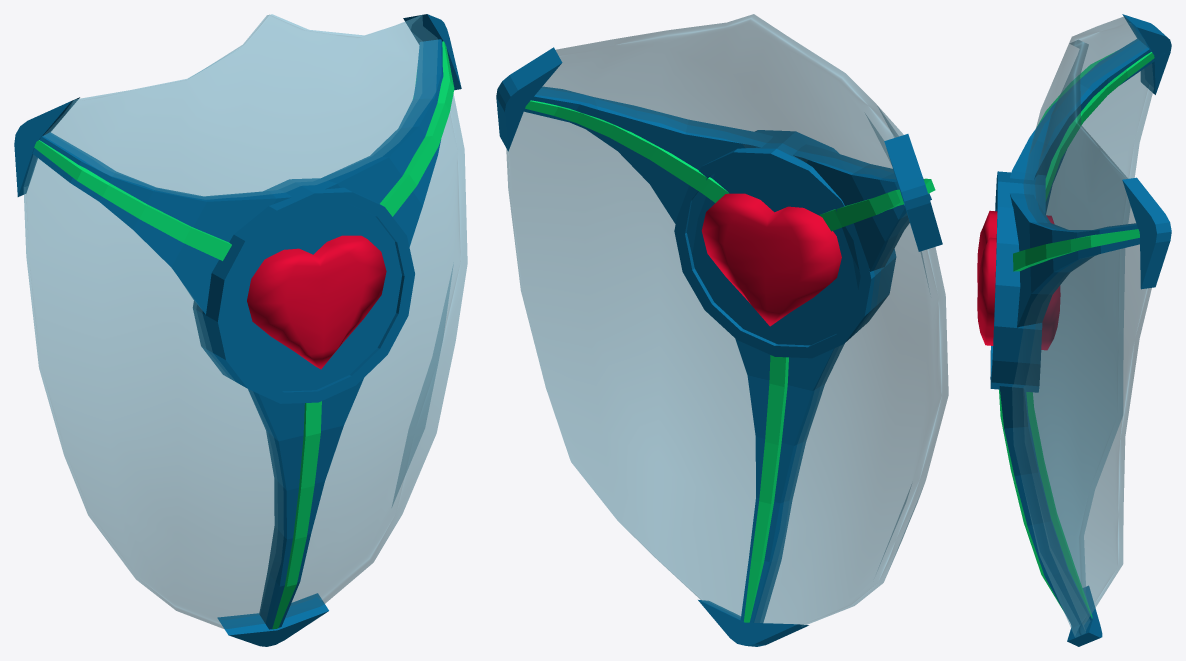
Rendered from NewShieldModel 1.fbx.
3 views of the same model, side by side, from view 1: azimuth 30°, elevation 25°; view 2: azimuth 150°, elevation 25°; view 3: azimuth 270°, elevation 25° (orthographic). The views are drawn at different scales.
Parts seen in each view (by area): view 1: Shield, pCylinder1, pCube2, EnergyBar, Skeleton, Skeleton_1 (×2), Triangle (×3), Skeleton_2 (×2), Skeleton_3 (×2), Skeleton_5 (×2), Skeleton_4 (×2); view 2: Shield, pCylinder1, pCube2, Skeleton, EnergyBar, Triangle (×3), Skeleton_1 (×2), Skeleton_2 (×2), Skeleton_3, Skeleton_4, Skeleton_5; view 3: Shield, pCylinder1, EnergyBar, Skeleton, Triangle (×3), pCube2, Skeleton_5 (×2), Skeleton_2 (×2), Skeleton_1 (×2), Skeleton_3 (×2), Skeleton_4 (×2).
Boxes of the visible parts, left/top/right/bottom form: Shield: left=23, top=14, right=467, bottom=628; pCylinder1: left=193, top=178, right=414, bottom=403; pCube2: left=247, top=235, right=386, bottom=369; EnergyBar: left=34, top=41, right=454, bottom=629; Skeleton: left=311, top=39, right=443, bottom=246; Skeleton_1 (×2): left=171, top=191, right=363, bottom=441; Triangle (×3): left=14, top=14, right=461, bottom=646; Skeleton_2 (×2): left=133, top=187, right=343, bottom=490; Skeleton_3 (×2): left=99, top=171, right=324, bottom=539; Skeleton_5 (×2): left=32, top=132, right=299, bottom=629; Skeleton_4 (×2): left=70, top=159, right=310, bottom=586; Shield: left=506, top=14, right=948, bottom=626; pCylinder1: left=674, top=130, right=896, bottom=358; pCube2: left=701, top=193, right=841, bottom=326; Skeleton: left=524, top=86, right=772, bottom=252; EnergyBar: left=525, top=100, right=935, bottom=622; Triangle (×3): left=496, top=47, right=942, bottom=646; Skeleton_1 (×2): left=735, top=147, right=903, bottom=390; Skeleton_2 (×2): left=747, top=164, right=909, bottom=445; Skeleton_3: left=755, top=436, right=806, bottom=503; Skeleton_4: left=749, top=497, right=792, bottom=561; Skeleton_5: left=740, top=557, right=781, bottom=622; Shield: left=1012, top=16, right=1153, bottom=637; pCylinder1: left=990, top=171, right=1045, bottom=392; EnergyBar: left=999, top=51, right=1154, bottom=618; Skeleton: left=1010, top=193, right=1139, bottom=327; Triangle (×3): left=1067, top=14, right=1171, bottom=646; pCube2: left=977, top=210, right=1060, bottom=350; Skeleton_5 (×2): left=1045, top=38, right=1165, bottom=627; Skeleton_2 (×2): left=1004, top=106, right=1069, bottom=476; Skeleton_1 (×2): left=999, top=137, right=1052, bottom=428; Skeleton_3 (×2): left=1014, top=83, right=1093, bottom=525; Skeleton_4 (×2): left=1027, top=62, right=1108, bottom=576.
Bounding box in the file's own units: 0.6042 × 0.8225 × 0.2399.
